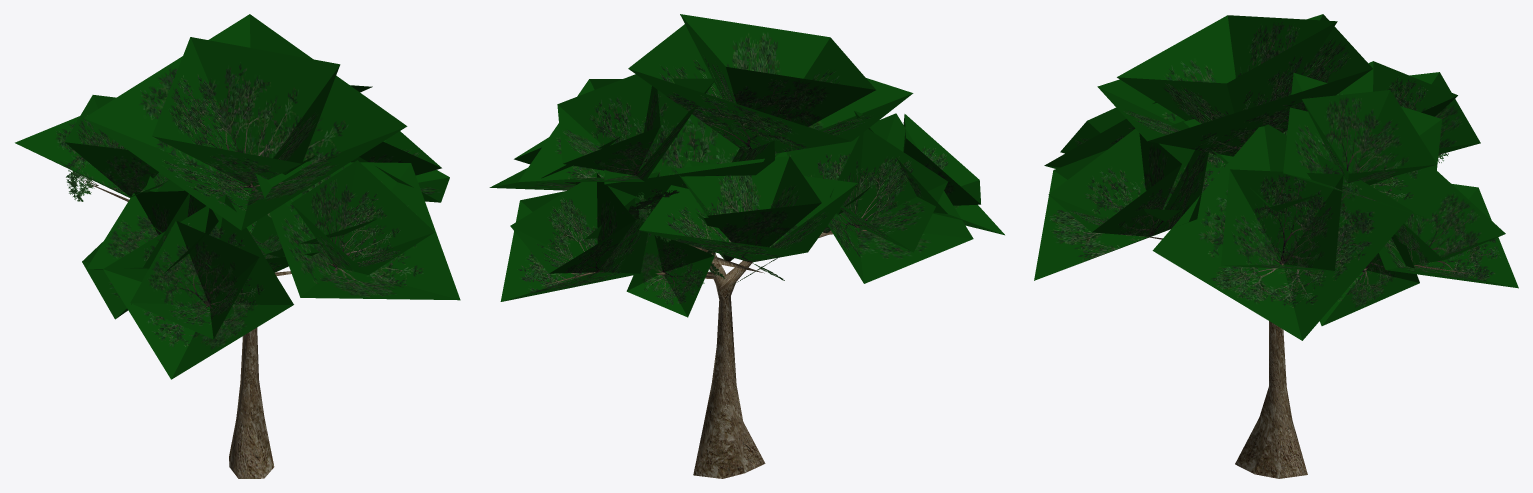
File: decd_treecanopy_a1_l1.fbx
3 views of the same model, side by side, from view 1: azimuth 30°, elevation 25°; view 2: azimuth 150°, elevation 25°; view 3: azimuth 270°, elevation 25° (orthographic). The views are drawn at different scales.
Visible parts, largest first — view 1: mesh_node; view 2: mesh_node; view 3: mesh_node.
Part boxes in pixels (x1=…): mesh_node: x1=15, y1=14, x2=460, y2=478; mesh_node: x1=489, y1=14, x2=1004, y2=478; mesh_node: x1=1034, y1=14, x2=1518, y2=478.
Bounding box in the file's own units: 24.08 × 23.76 × 24.25.
